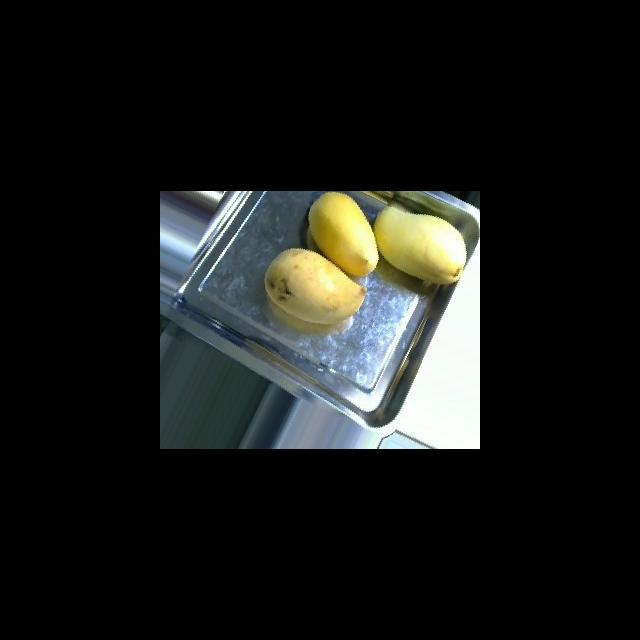mango: (264, 247, 366, 324), (373, 206, 467, 285), (307, 191, 379, 277)
